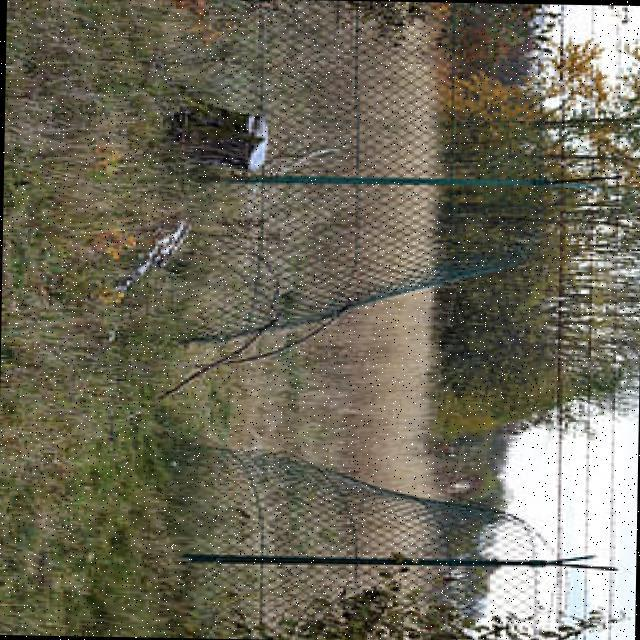fence line: (112, 216, 603, 577), (116, 213, 587, 533)
